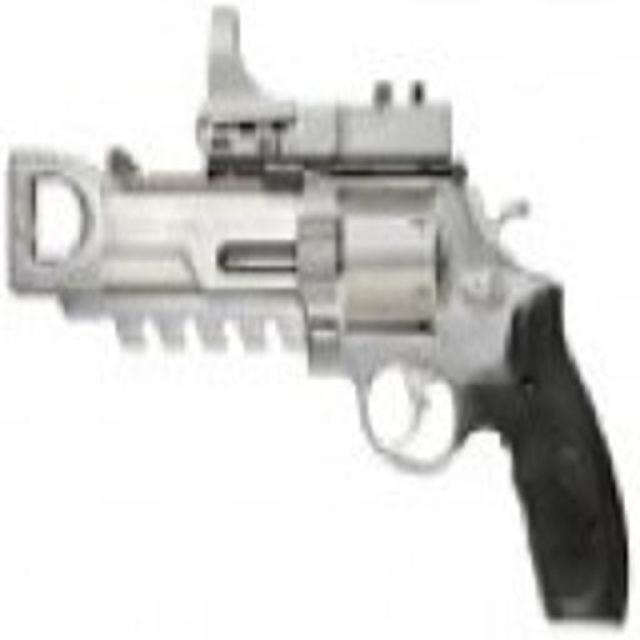pistol: (11, 123, 631, 629)
